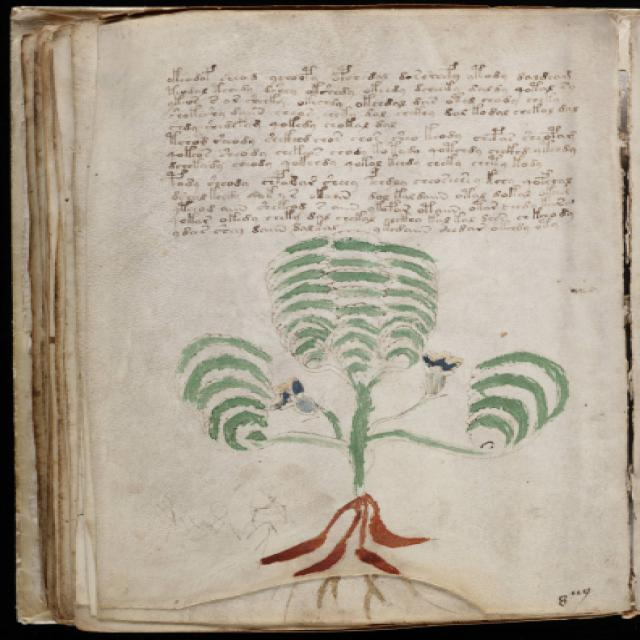plant: (170, 229, 574, 581)
